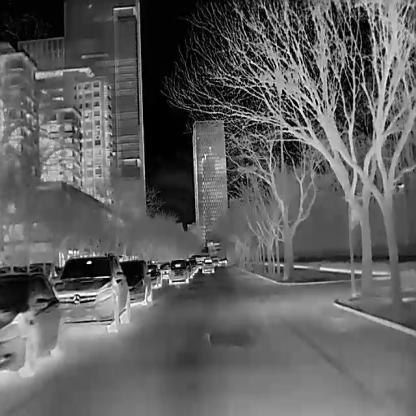car: (0, 273, 59, 377), (56, 255, 129, 334), (120, 257, 152, 304), (169, 258, 188, 283), (147, 263, 160, 288), (200, 258, 214, 272), (190, 258, 198, 272), (187, 260, 192, 280)
